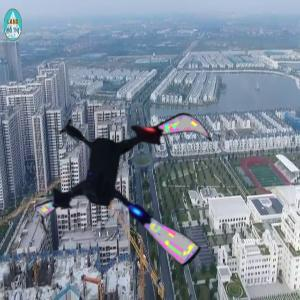drone: (35, 81, 233, 279)
